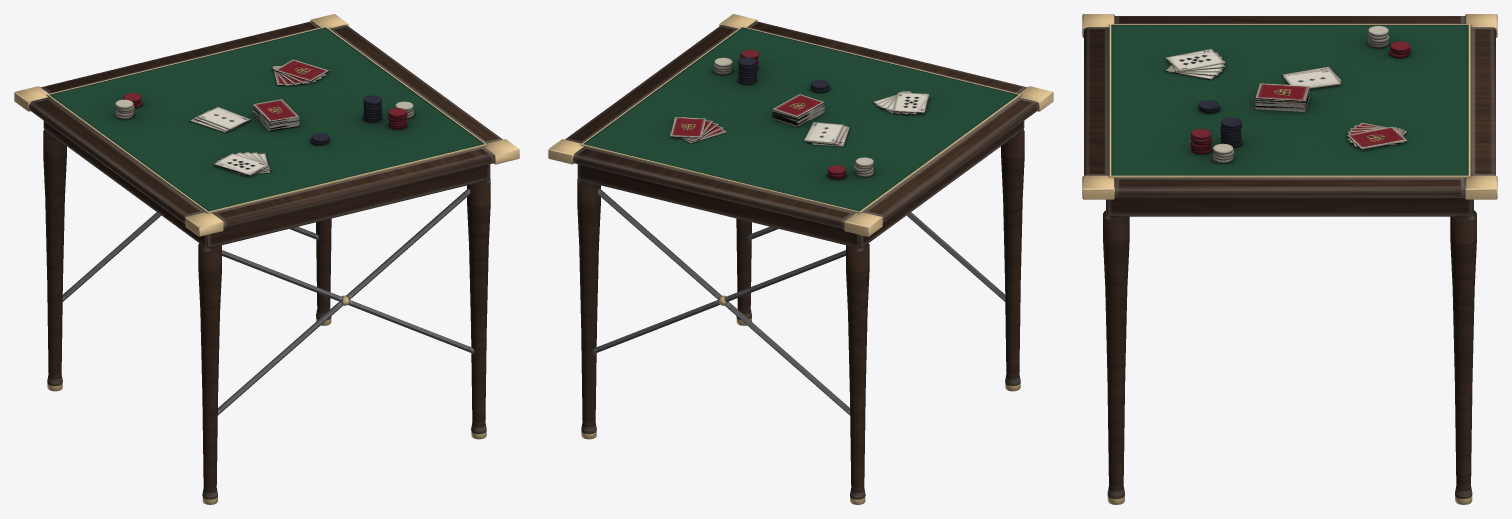
File: CardTable.fbx
3 renders of one model, left to right at view 1: azimuth 30°, elevation 25°; view 2: azimuth 150°, elevation 25°; view 3: azimuth 270°, elevation 25°, orthographic. The views are drawn at different scales.
Parts seen in each view (by area): view 1: CardTable; view 2: CardTable; view 3: CardTable.
Part boxes in pixels (<box>): CardTable: <box>14,14,519,504</box>; CardTable: <box>548,14,1053,504</box>; CardTable: <box>1082,14,1497,504</box>.
Bounding box in the file's own units: 282 × 263 × 282.
